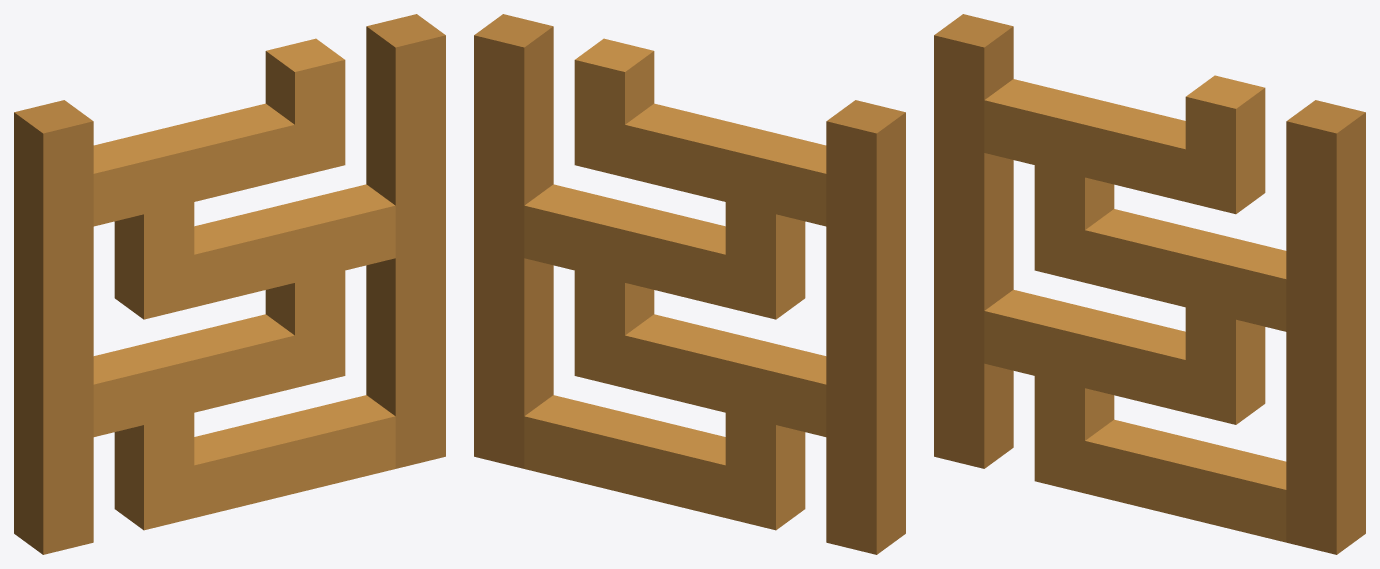
The model's file is Palm Ladder.glb.
3 renders of one model, left to right at view 1: azimuth 30°, elevation 25°; view 2: azimuth 150°, elevation 25°; view 3: azimuth 330°, elevation 25°, orthographic.
Visible parts, largest first — view 1: generated(Clone); view 2: generated(Clone); view 3: generated(Clone).
Part boxes in pixels (<box>): generated(Clone): <box>14,14,445,554</box>; generated(Clone): <box>474,14,905,554</box>; generated(Clone): <box>934,14,1365,554</box>.
Size of the model in its own units: 0.8 by 0.8 by 0.1.
1 material, 1 textured.
